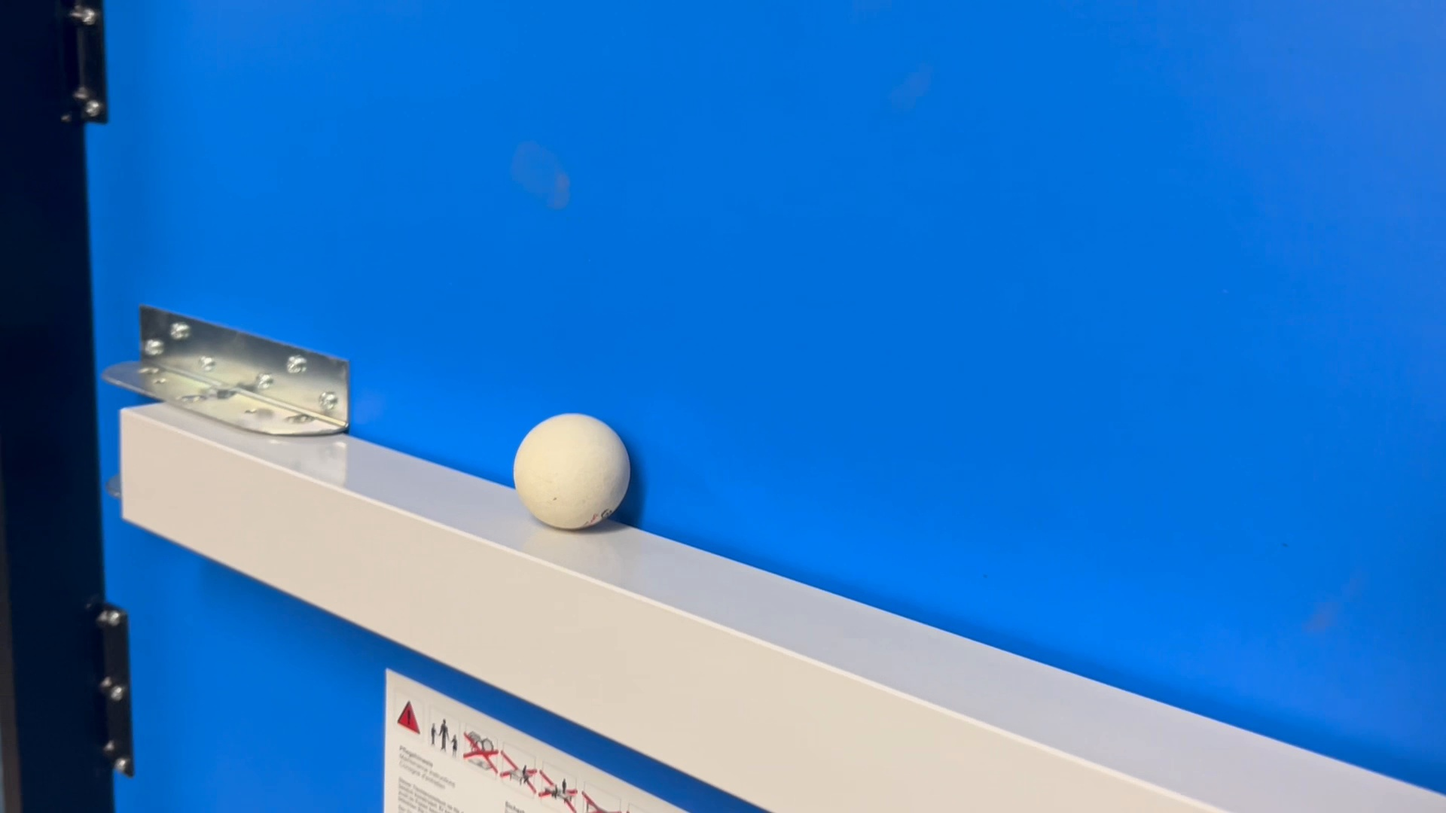Ball: (497, 410, 659, 539)
